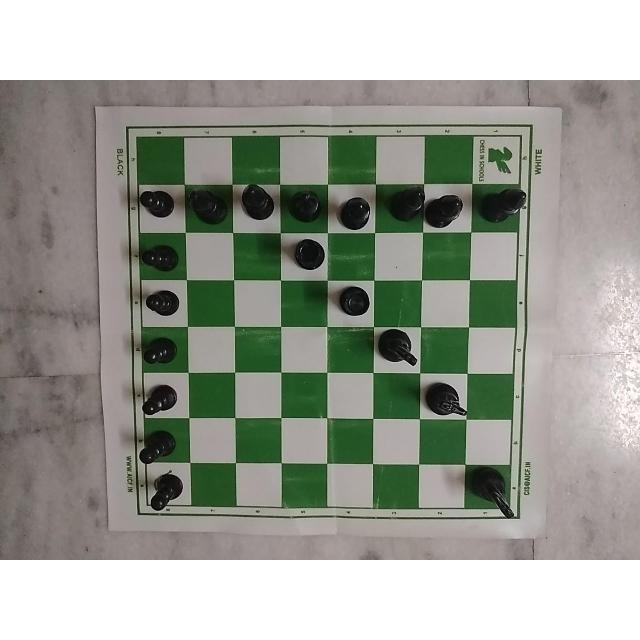black-bishop: (474, 187, 528, 229), (422, 188, 471, 232), (233, 181, 276, 228), (185, 185, 232, 226), (282, 186, 327, 228), (336, 189, 378, 231), (393, 181, 427, 223)
black-knight: (470, 463, 521, 522), (375, 327, 420, 372), (427, 383, 469, 422)
black-pawn: (140, 187, 180, 239), (134, 425, 176, 467), (147, 470, 186, 513), (136, 237, 183, 271), (142, 286, 183, 323), (143, 382, 180, 418), (140, 337, 179, 367)
black-rook: (289, 229, 329, 280), (329, 286, 373, 320)
